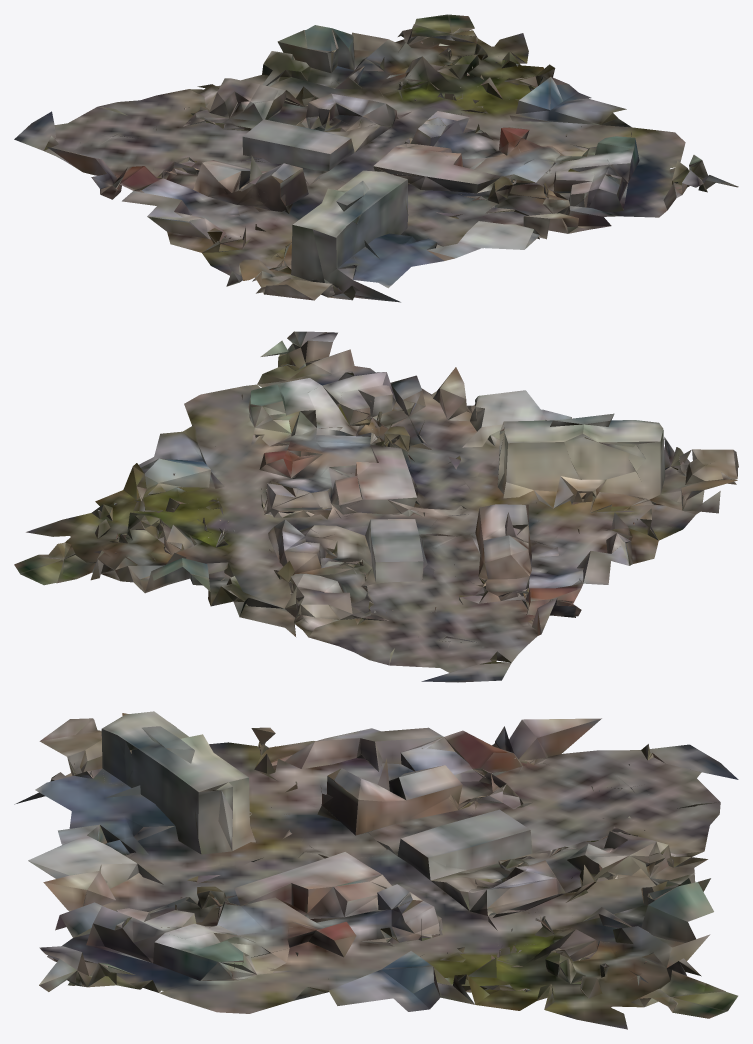
Rendered from Tile_012_010_L15.gltf.
3 views of the same model, one above another, from view 1: azimuth 30°, elevation 25°; view 2: azimuth 150°, elevation 25°; view 3: azimuth 270°, elevation 25° (orthographic). The views are drawn at different scales.
Visible parts, largest first — view 1: Tile_+012_+010_L15; view 2: Tile_+012_+010_L15; view 3: Tile_+012_+010_L15.
Boxes of the visible parts, box(x1,y1,x2,y2) form: Tile_+012_+010_L15: box(14, 14, 738, 302); Tile_+012_+010_L15: box(14, 331, 738, 682); Tile_+012_+010_L15: box(14, 711, 738, 1029).
Size of the model in its own units: 231 by 31.21 by 240.
1 material, 1 textured.
